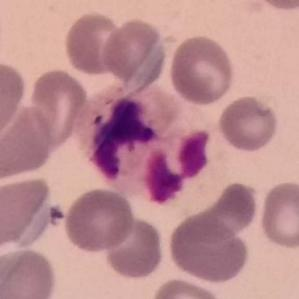Neutrophil: (75, 82, 218, 211)
Platelets: (48, 204, 66, 225)
RBC: (166, 211, 251, 285), (26, 66, 90, 149), (167, 32, 236, 106), (62, 186, 136, 254), (100, 16, 167, 89), (0, 172, 58, 252), (100, 213, 167, 281), (0, 102, 55, 183), (62, 9, 127, 77), (190, 180, 260, 240), (216, 94, 280, 154), (0, 246, 59, 298), (257, 179, 299, 250), (0, 58, 28, 145), (148, 276, 228, 299), (248, 0, 299, 13)
